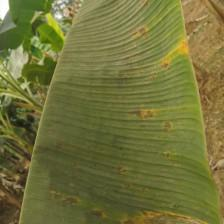pestalotiopsis: (17, 0, 224, 224)
